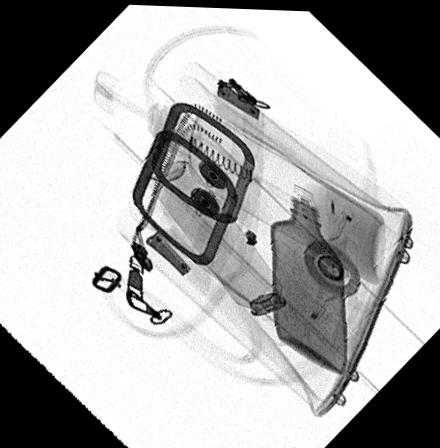Sprayer: (149, 159, 307, 343)
